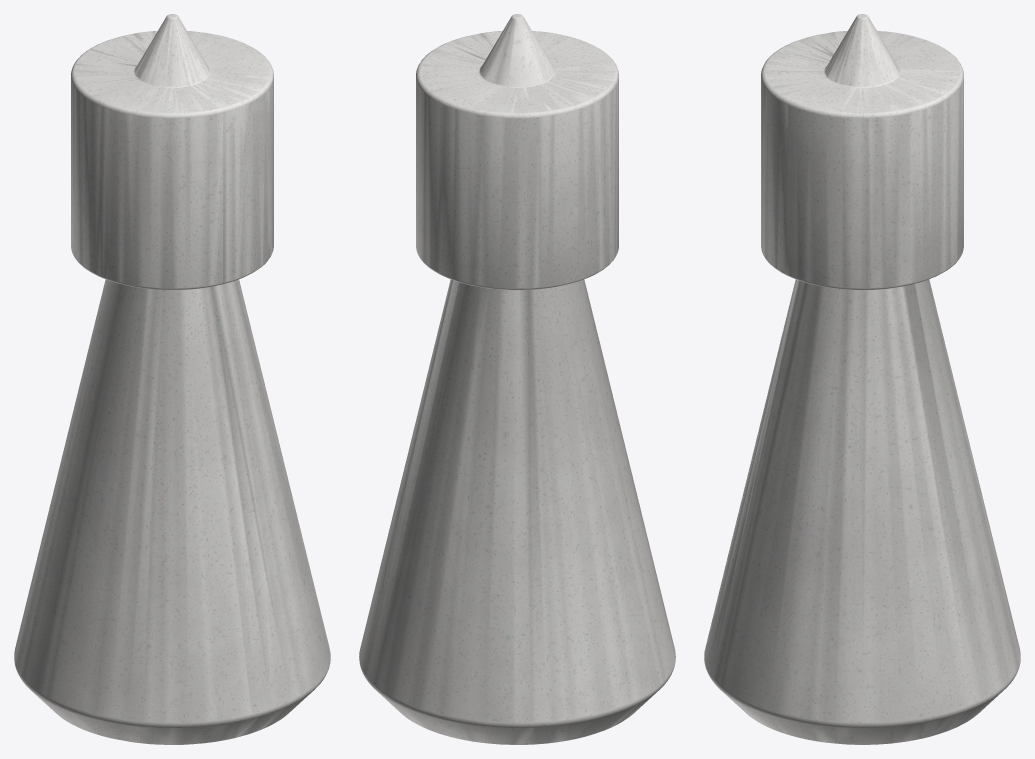
File: queen-white.glb
The picture shows the model from 3 angles, left to right: view 1: azimuth 30°, elevation 25°; view 2: azimuth 150°, elevation 25°; view 3: azimuth 270°, elevation 25°; orthographic projection.
Visible parts, largest first — view 1: 02_dama_bila; view 2: 02_dama_bila; view 3: 02_dama_bila.
Boxes of the visible parts, x1,y1,x2,y2 form: 02_dama_bila: [14, 14, 330, 744]; 02_dama_bila: [359, 14, 675, 744]; 02_dama_bila: [704, 14, 1020, 744].
Size of the model in its own units: 0.6496 by 1.53 by 0.6498.
Materials: 1 (1 with a texture image).
